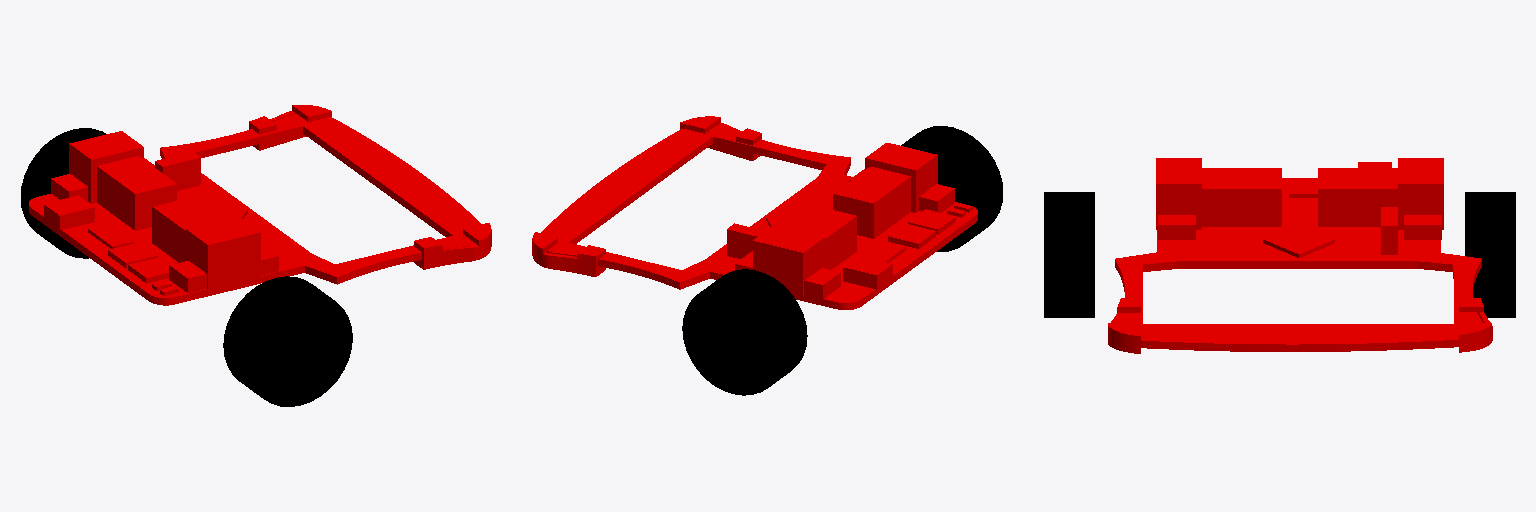
URDF robot description (line_follower):
<?xml version="1.0"?>
<robot name="line_follower">
 	 <material name="red">
        <color rgba="1 0 0 1"/>
    </material>

    <material name="blue">
        <color rgba="0 0 1 1"/>
    </material>
  
    <material name="green">
        <color rgba="0 1 0 1"/>
    </material>  

    <material name="black">
        <color rgba="0 0 0 1"/>
    </material>

    <material name="gray">
        <color rgba="1 0 0 1"/>
    </material>
  
	<link name="chassis">
    	<visual>
          <geometry>
				    <mesh filename="./motoko_uprising.obj" scale="0.001 0.001 0.001"/>
      		</geometry>
          <material name="gray"/>
          <origin rpy="0 0 3.141592654" xyz="0.0 0.0 0.0"/>
  		</visual>
  
  		<collision>
          <geometry>
				    <mesh filename="./motoko_uprising.obj" scale="0.001 0.001 0.001"/>
      		</geometry>
        </collision>

        <contact>
          <lateral_friction value="0.0"/>
          <rolling_friction value="0.0"/>
          <stiffness value="300000"/>
          <damping value="1000"/>
        </contact>
  
   		<inertial>
            <mass value="0.063"/>
            <inertia ixx="0.0" ixy="0.0" ixz="0.0" iyy="0.0" iyz="0.0" izz="6e-4"/>
        </inertial>
	</link>




	<link name="left_wheel">
        <visual>
            <geometry>
                <cylinder length="0.012" radius="0.015"/>
            </geometry>
            <material name="black"/>
        </visual>
        <collision>
            <geometry>
                <cylinder length="0.012" radius="0.015"/>
            </geometry>
        </collision>
        <contact>
          <lateral_friction value="0.8"/>
          <rolling_friction value="0.0"/>
          <stiffness value="300000"/>
          <damping value="50"/>
        </contact>
        <inertial>
            <mass value="0.001"/>
            <inertia ixx="0.0" ixy="0.0" ixz="0.0" iyy="0.0" iyz="0.0" izz="1e-6"/>
        </inertial>
    </link>

    

	<link name="right_wheel">
        <visual>
            <geometry>
                <cylinder length="0.012" radius="0.015"/>
            </geometry>
            <material name="black"/>
        </visual>
        <collision>
            <geometry>
                <cylinder length="0.012" radius="0.015"/>
            </geometry>
        </collision>
        <contact>
          <lateral_friction value="0.8"/>
          <rolling_friction value="0.0"/>
          <stiffness value="300000"/>
          <damping value="50"/>
        </contact>
        <inertial>
            <mass value="0.001"/>
            <inertia ixx="0.0" ixy="0.0" ixz="0.0" iyy="0.0" iyz="0.0" izz="1e-6"/>
        </inertial>
    </link>







	 <joint name="chassis_left_wheel" type="continuous">
        <parent link="chassis"/>
        <child link="left_wheel"/>
        <origin rpy="-1.5708 0.0 0" xyz="-0.03 0.05 0.0025"/>
        <axis xyz="0 0 1"/>
     </joint>


    <joint name="chassis_right_wheel" type="continuous">
        <parent link="chassis"/>
        <child link="right_wheel"/>
        <origin rpy="1.5708 0.0 0" xyz="-0.03 -0.05 0.0025"/>
        <axis xyz="0 0 -1"/>
     </joint>



</robot>

--- Facts derived from the render (not from the file) ---
Views: 3 orthographic renders of the robot side by side, from view 1: azimuth 30°, elevation 25°; view 2: azimuth 150°, elevation 25°; view 3: azimuth 270°, elevation 25°.
Model line_follower with 3 links and 2 joints (2 continuous), rooted at chassis, posed all joints at 0.
Links seen in each view (by area): view 1: chassis, right_wheel, left_wheel; view 2: chassis, left_wheel, right_wheel; view 3: chassis, right_wheel, left_wheel.
Boxes of the visible links, <box> form: chassis: <box>29,105,491,305</box>; right_wheel: <box>223,276,352,406</box>; left_wheel: <box>21,128,105,258</box>; chassis: <box>532,116,977,309</box>; left_wheel: <box>682,269,807,395</box>; right_wheel: <box>901,126,1002,251</box>; chassis: <box>1108,158,1492,353</box>; right_wheel: <box>1044,192,1094,317</box>; left_wheel: <box>1465,192,1515,317</box>.
Size in the robot's own frame: 0.0939 by 0.112 by 0.0355 metres.
1 mesh visuals loaded from 1 distinct referenced files (1 OBJ).